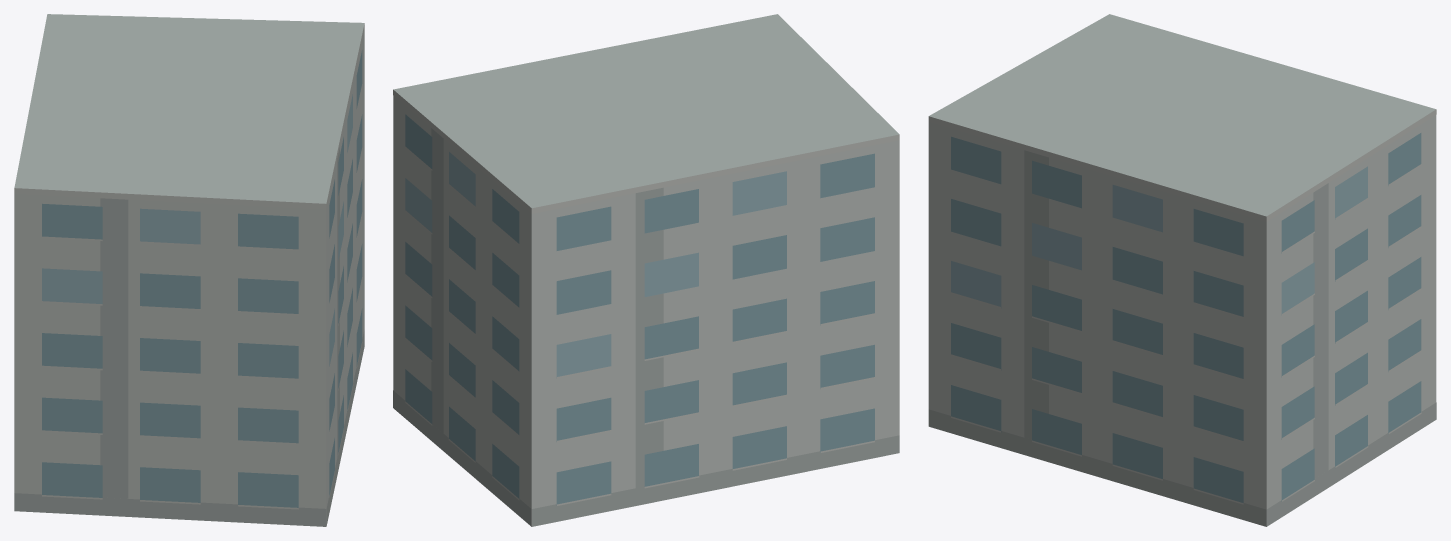
Rendered from survey-upis-32856576.glb.
3 renders of one model, left to right at view 1: azimuth 30°, elevation 25°; view 2: azimuth 150°, elevation 25°; view 3: azimuth 270°, elevation 25°, orthographic. The views are drawn at different scales.
Parts seen in each view (by area): view 1: survey-upis-32856576.tmp; view 2: survey-upis-32856576.tmp; view 3: survey-upis-32856576.tmp.
Part boxes in pixels (x1=…): survey-upis-32856576.tmp: x1=14, y1=14, x2=364, y2=526; survey-upis-32856576.tmp: x1=393, y1=14, x2=899, y2=526; survey-upis-32856576.tmp: x1=928, y1=14, x2=1436, y2=526.
Bounding box in the file's own units: 18.94 × 13.53 × 20.07.
